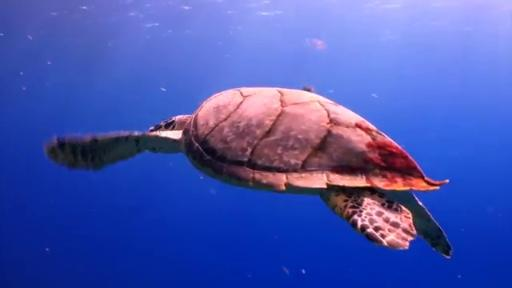Fish: (45, 88, 451, 257)
